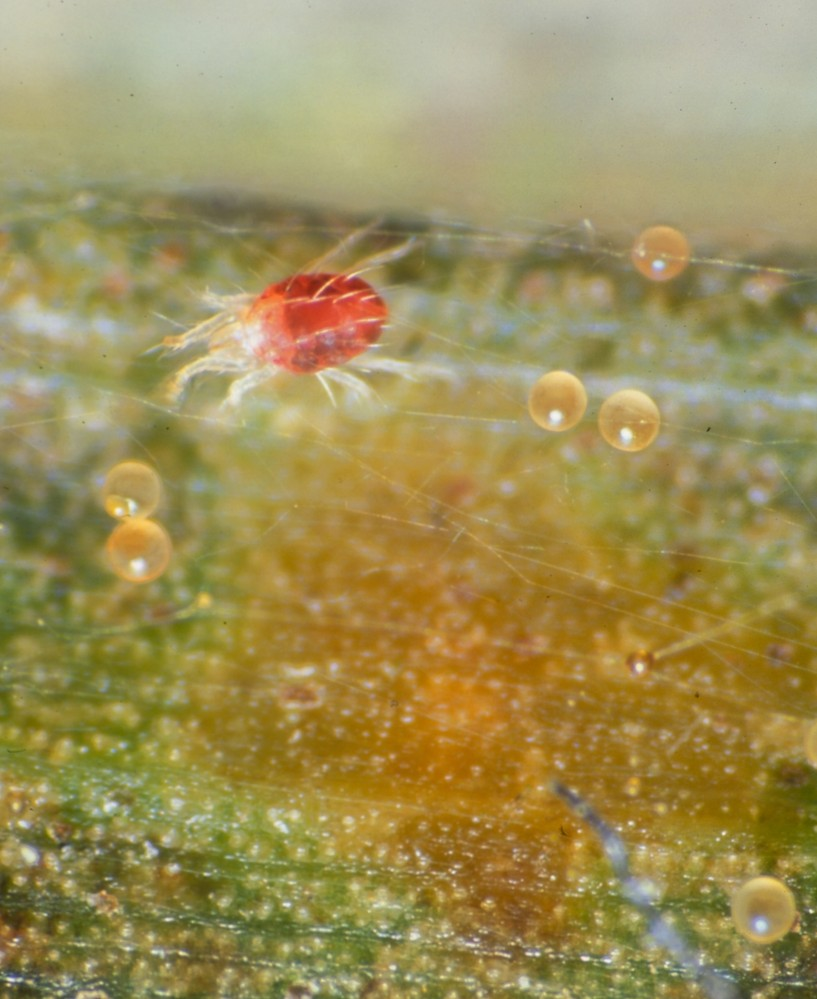Aracnido Rojo: (138, 199, 441, 428)
